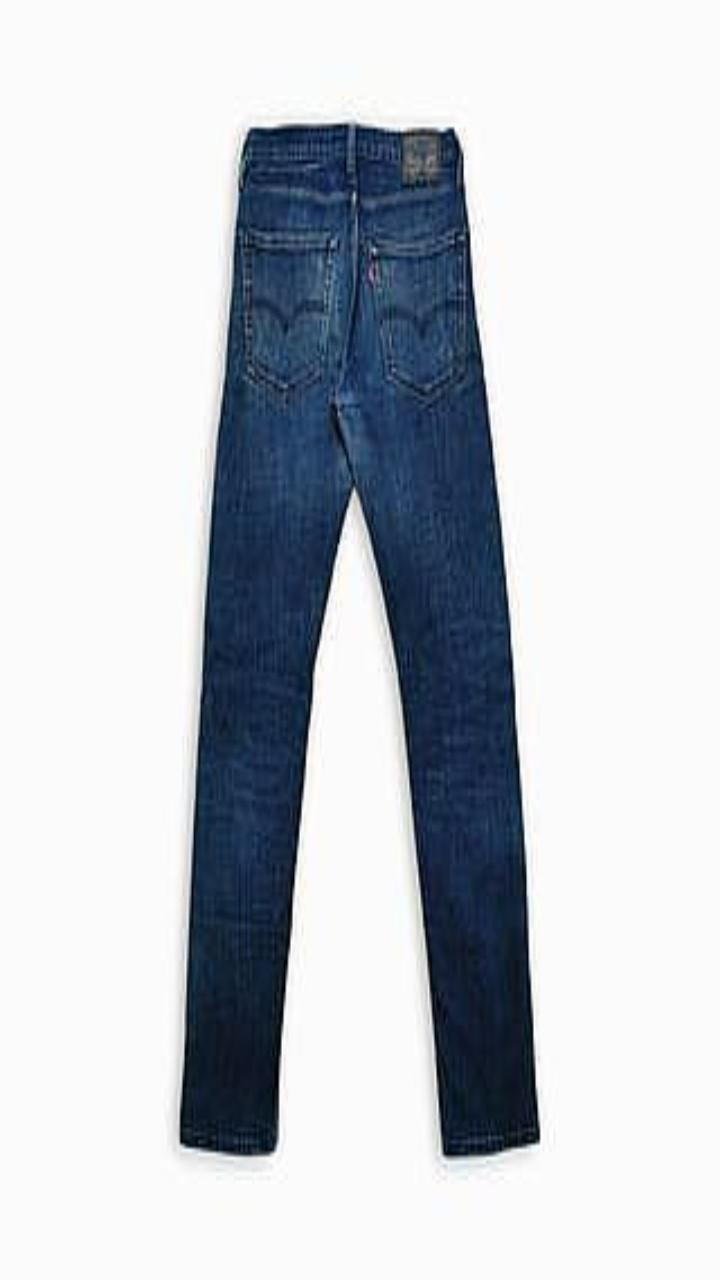Jeans: (181, 125, 538, 1154)
